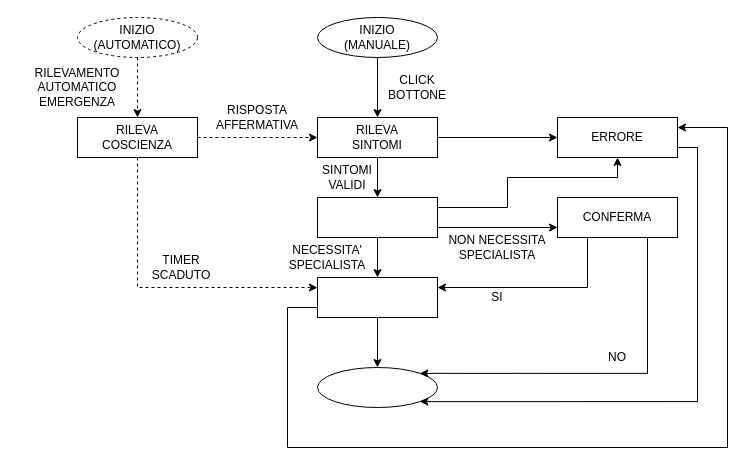
Image size: 753x473. Some labels were removed from this diagram. Here are the shapes that lost their labels. From the top down, the box of each, then its label:
(316, 196, 438, 238): SUGGERISCI SPECIALISTA
(316, 276, 438, 318): CONTATTA SPECIALISTA
(316, 366, 438, 408): FINE
